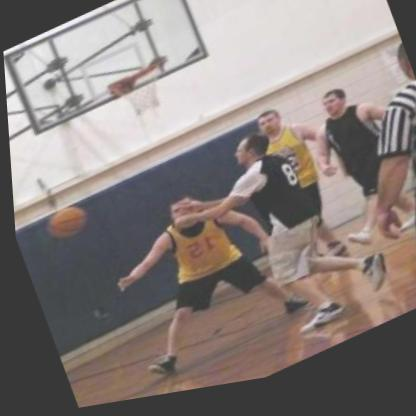basketball: (40, 199, 89, 247)
